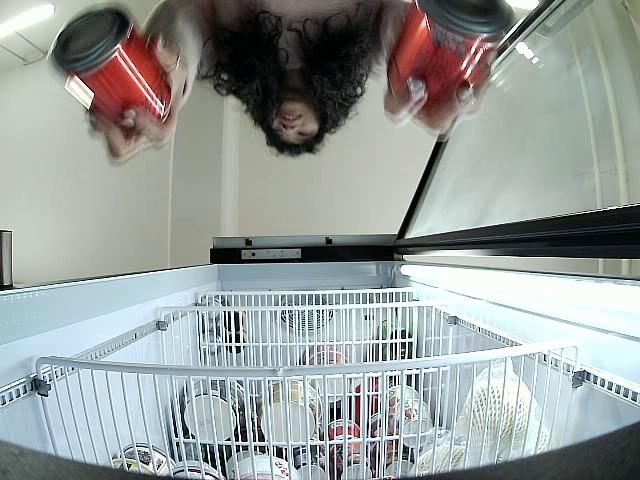00_hand: (86, 34, 185, 165), (383, 72, 490, 134)
11_cocaColaZero: (383, 0, 517, 121), (53, 8, 173, 136)
